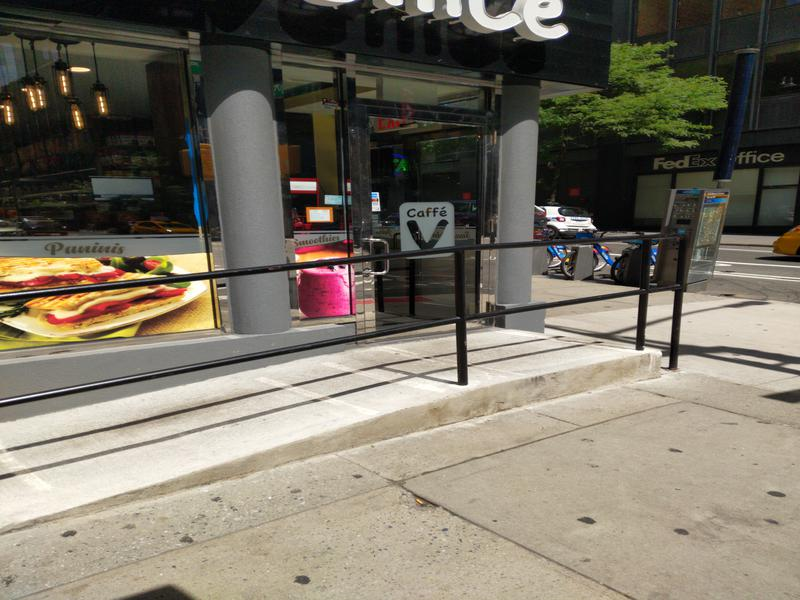door: (346, 96, 484, 329)
